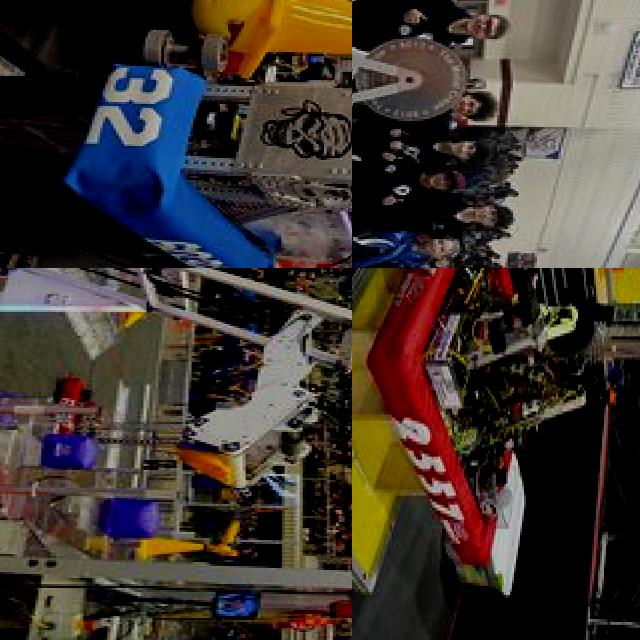FRC-Robots: (352, 268, 640, 640), (0, 0, 352, 268), (0, 268, 352, 481), (46, 374, 288, 502), (352, 1, 486, 164)
